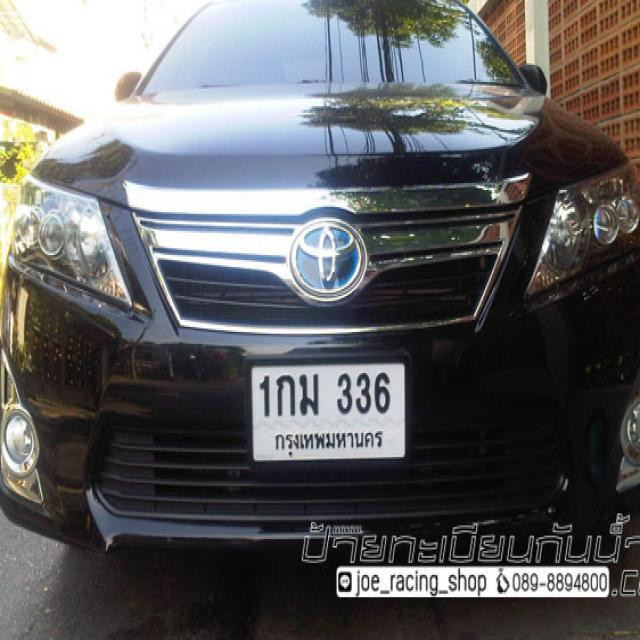license_plate: (246, 358, 411, 469)
